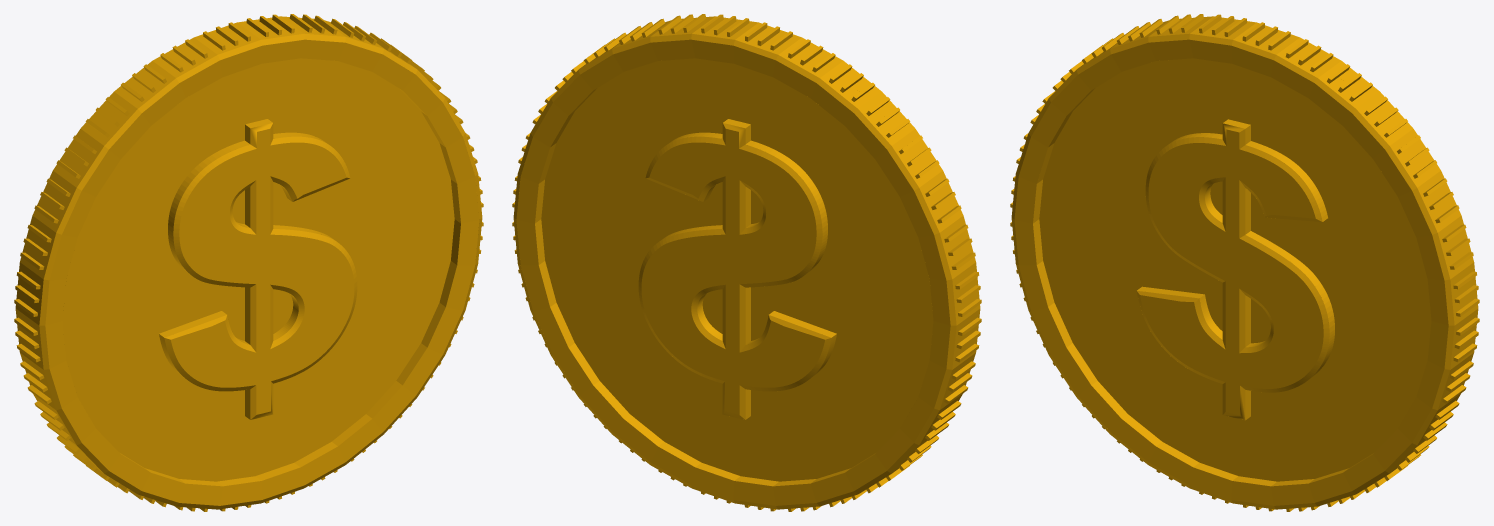
The model's file is coin3-transformed.glb.
3 renders of one model, left to right at view 1: azimuth 30°, elevation 25°; view 2: azimuth 150°, elevation 25°; view 3: azimuth 330°, elevation 25°, orthographic.
Visible parts, largest first — view 1: Coin_SmothGold_0; view 2: Coin_SmothGold_0; view 3: Coin_SmothGold_0.
Part boxes in pixels (left/top/right/bottom): Coin_SmothGold_0: left=14, top=14, right=483, bottom=511; Coin_SmothGold_0: left=512, top=14, right=981, bottom=511; Coin_SmothGold_0: left=1010, top=14, right=1479, bottom=511.
Size of the model in its own units: 2.03 by 2.03 by 0.21.
